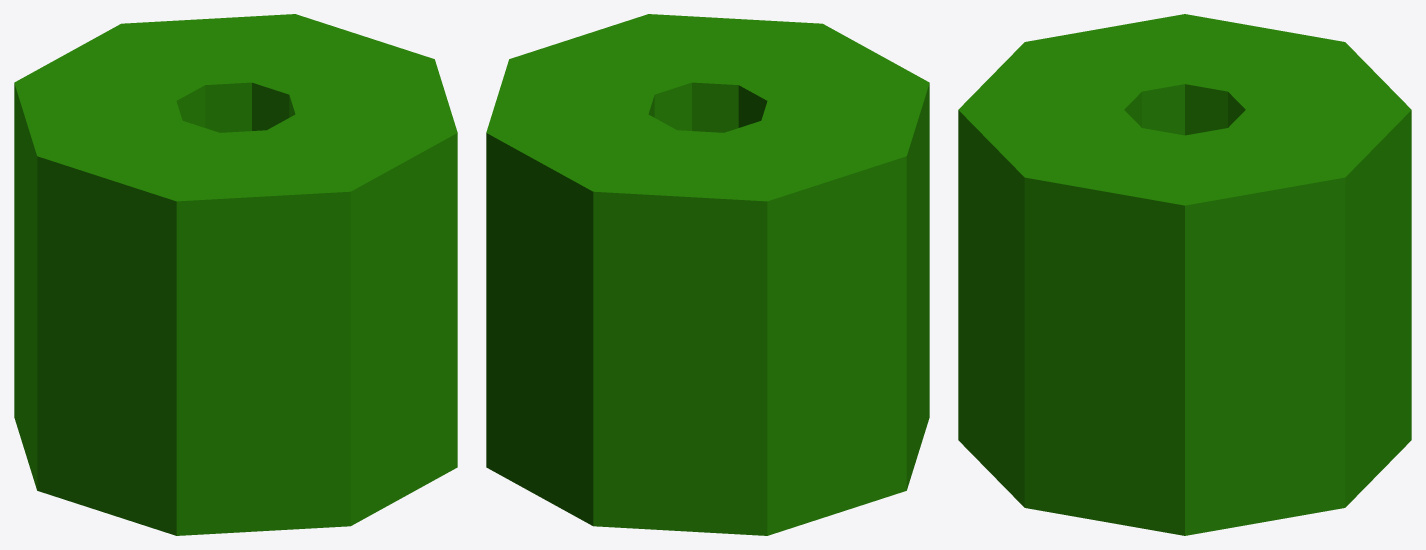
File: scallion02.obj
The picture shows the model from 3 angles, left to right: view 1: azimuth 30°, elevation 25°; view 2: azimuth 150°, elevation 25°; view 3: azimuth 270°, elevation 25°; orthographic projection.
Parts seen in each view (by area): view 1: Cylinder_Cylinder.002; view 2: Cylinder_Cylinder.002; view 3: Cylinder_Cylinder.002.
Part boxes in pixels (box(x1,y1,x2,y2)): Cylinder_Cylinder.002: box(14, 14, 457, 535); Cylinder_Cylinder.002: box(486, 14, 929, 535); Cylinder_Cylinder.002: box(958, 14, 1411, 535).
Size of the model in its own units: 0.0158 by 0.0127 by 0.0158.
Materials: 1 (1 with a texture image).
